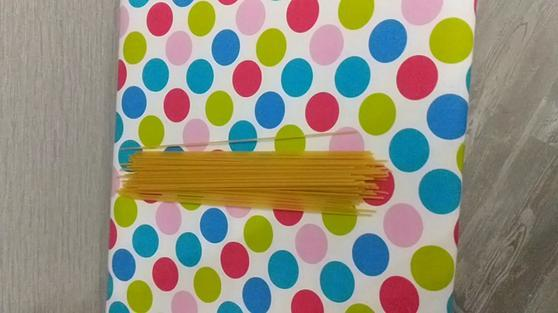spaghetti: (118, 118, 405, 230)
